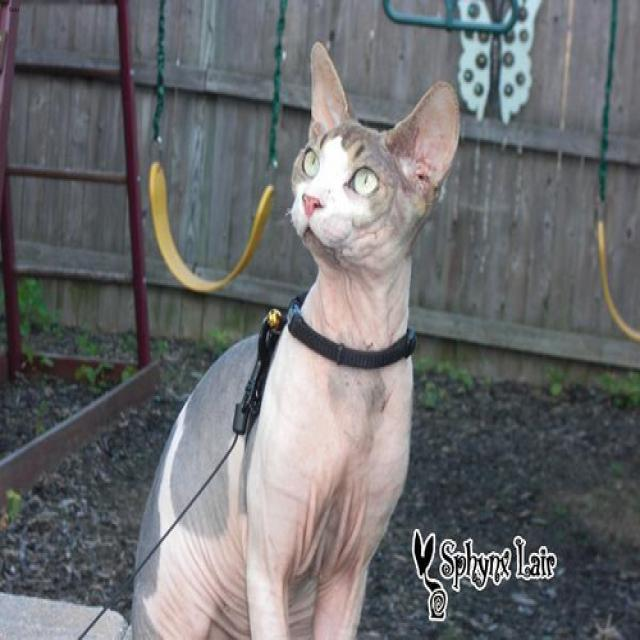Sphynx: (290, 39, 459, 265)
